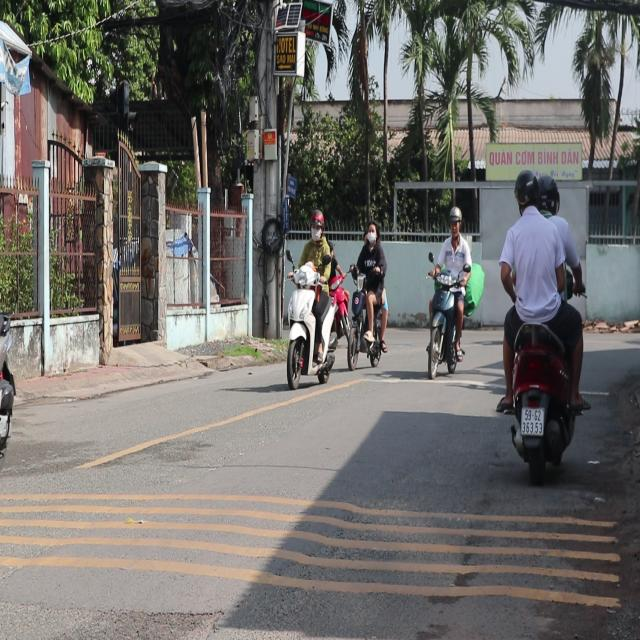helmet: (513, 165, 540, 214), (536, 171, 559, 215), (309, 210, 324, 239)
licenseplate: (494, 164, 589, 480), (284, 208, 342, 390)
nohelmet: (521, 406, 544, 434)
